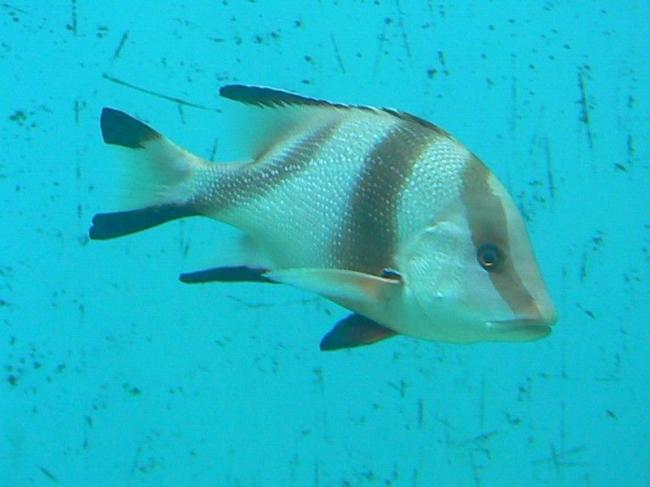fish: (89, 83, 558, 352)
